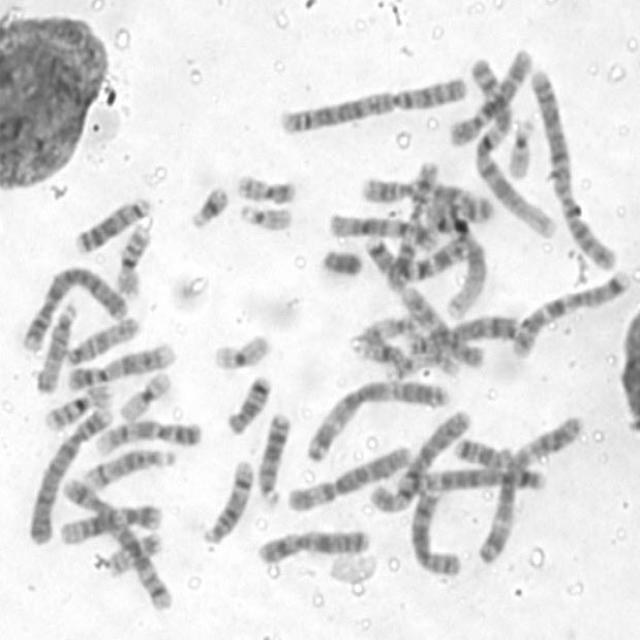A1: (467, 56, 562, 242), (424, 194, 498, 322)
A2: (523, 68, 623, 277), (278, 75, 468, 136)
A3: (475, 411, 583, 565), (306, 379, 452, 463)
B4: (22, 405, 112, 544), (17, 264, 132, 356)
B5: (60, 474, 176, 610), (392, 464, 549, 495)
C10: (446, 46, 534, 148), (397, 281, 485, 372)
C11: (384, 158, 440, 294), (360, 175, 497, 224)
C12: (324, 210, 440, 252), (58, 504, 164, 547)
C6: (368, 409, 469, 516), (286, 444, 416, 515)
C7: (511, 271, 635, 360), (361, 234, 470, 288)
C8: (408, 486, 464, 577), (410, 313, 521, 355)
C9: (63, 342, 175, 392), (91, 418, 205, 458)
D13: (73, 194, 154, 258), (256, 414, 295, 506)
D14: (203, 458, 255, 544), (84, 447, 174, 492)
D15: (32, 299, 82, 396), (64, 313, 142, 368)
E16: (42, 383, 116, 432), (114, 222, 153, 300)
E17: (359, 313, 433, 349), (394, 350, 465, 378)
E18: (225, 374, 275, 437), (454, 434, 515, 471)
F19: (117, 370, 174, 424), (212, 332, 272, 372)
F20: (108, 530, 164, 581), (235, 171, 298, 205)
G21: (346, 336, 412, 372), (189, 185, 231, 230)
G22: (506, 118, 536, 178), (238, 205, 296, 232)
X: (256, 527, 376, 565)
Y: (319, 244, 364, 279)
